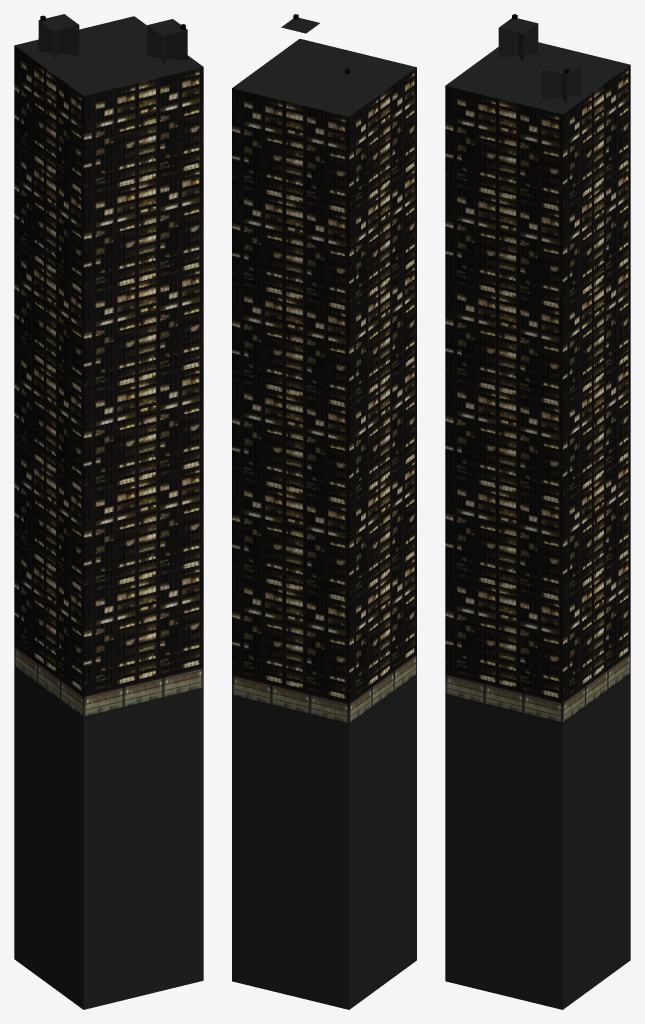
The model's file is AMB_HIGHBILL_00.glb.
3 views of the same model, side by side, from view 1: azimuth 30°, elevation 25°; view 2: azimuth 150°, elevation 25°; view 3: azimuth 330°, elevation 25° (orthographic). The views are drawn at different scales.
Parts seen in each view (by area): view 1: BASE; view 2: BASE; view 3: BASE.
Part boxes in pixels (<box>): BASE: <box>14,14,203,1009</box>; BASE: <box>232,14,416,1009</box>; BASE: <box>445,14,630,1009</box>.
Bounding box in the file's own units: 50 × 378 × 50.
4 materials, 4 textured.
